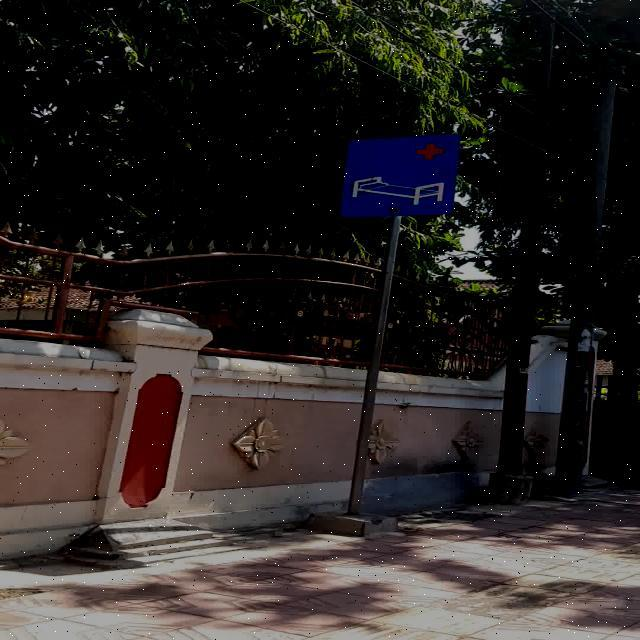Rumah Sakit: (340, 134, 460, 218)
